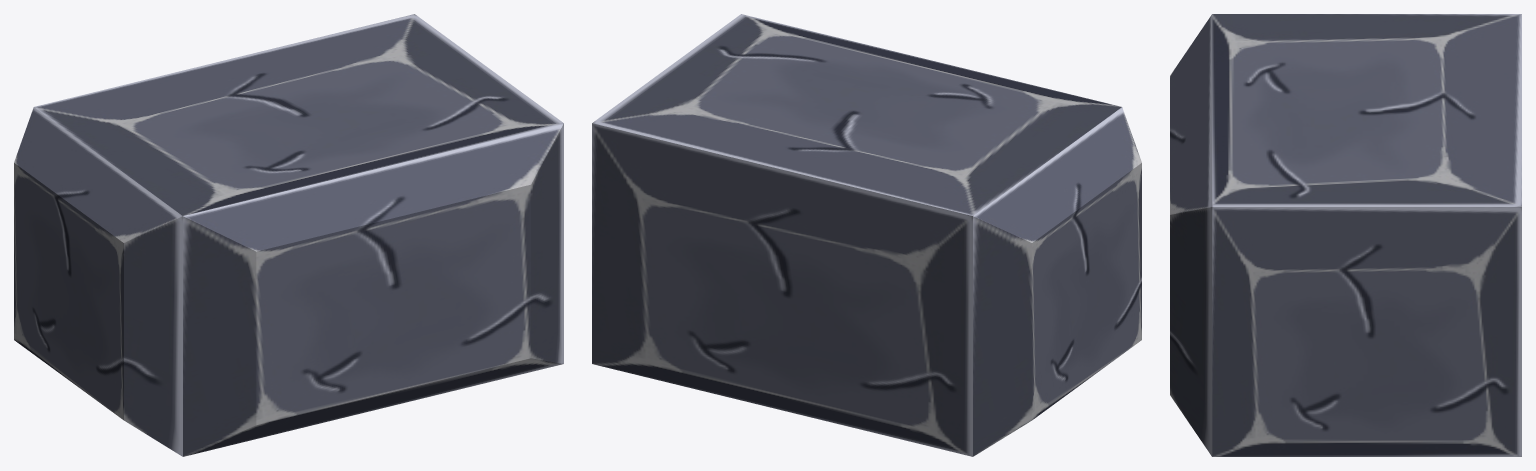
File: blok.FBX
3 renders of one model, left to right at view 1: azimuth 30°, elevation 25°; view 2: azimuth 150°, elevation 25°; view 3: azimuth 270°, elevation 25°, orthographic. The views are drawn at different scales.
Parts seen in each view (by area): view 1: Box043; view 2: Box043; view 3: Box043.
Boxes of the visible parts, x1,y1,x2,y2 form: Box043: [14, 14, 563, 456]; Box043: [592, 14, 1141, 456]; Box043: [1170, 14, 1521, 456].
Bounding box in the file's own units: 237 × 130 × 165.
